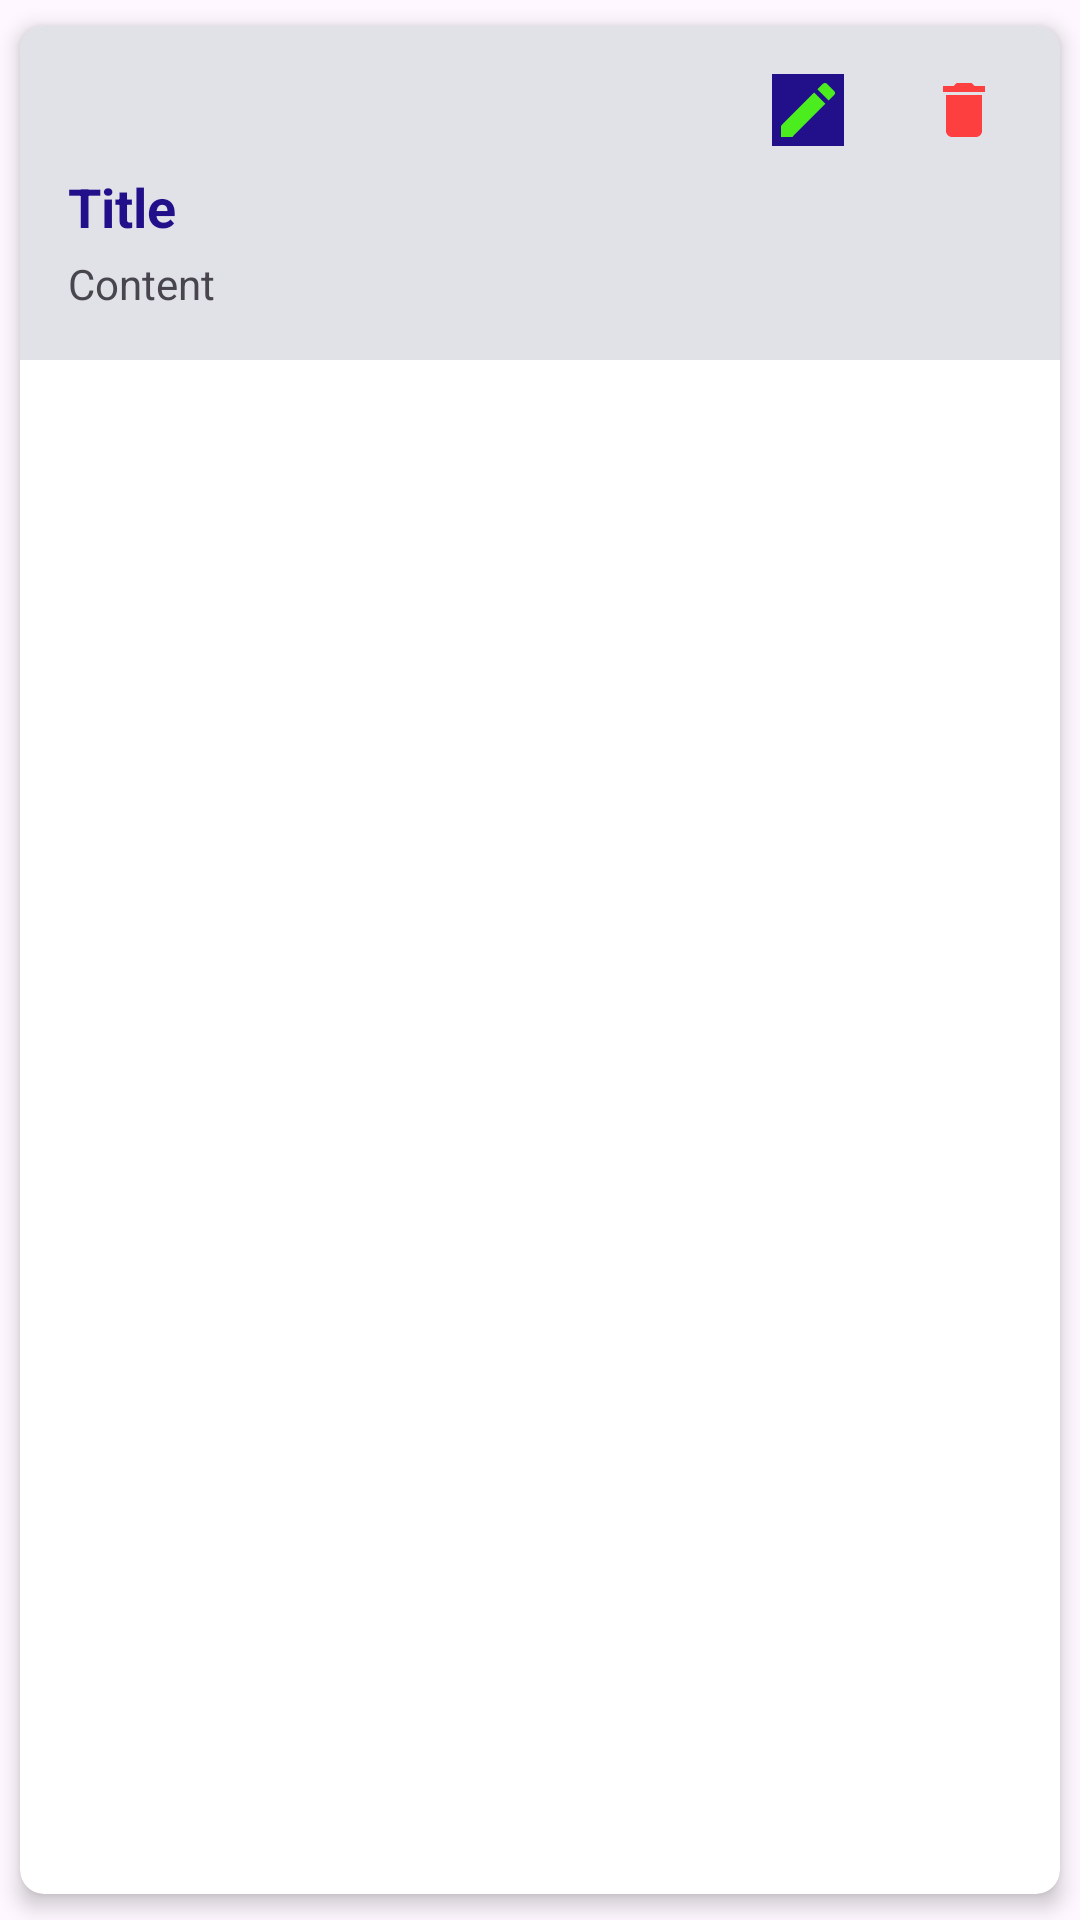

Icons on this 1080px×1920px Android screen, each with its box as (x1,y1,x2,y2):
delete: (943,83,985,137)
edit: (772,74,844,146)
